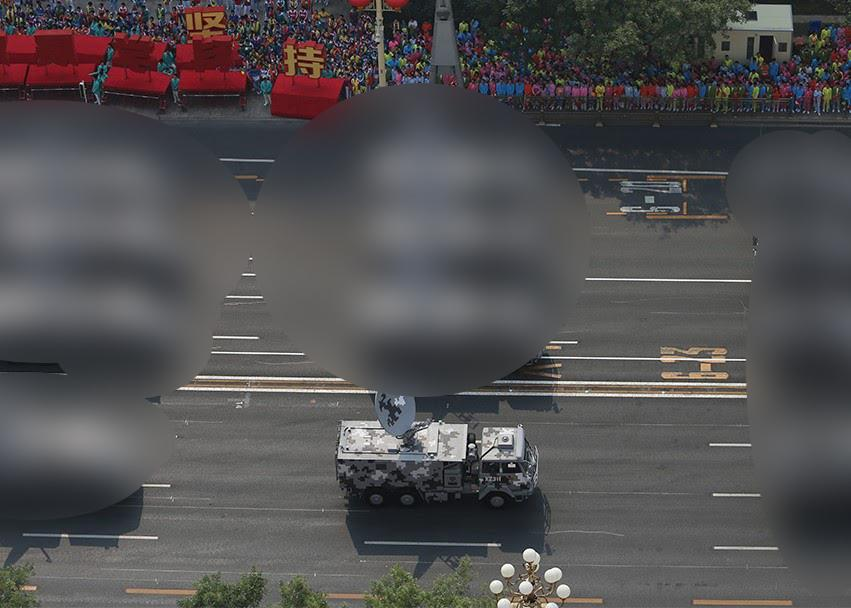truck: (335, 420, 541, 509)
